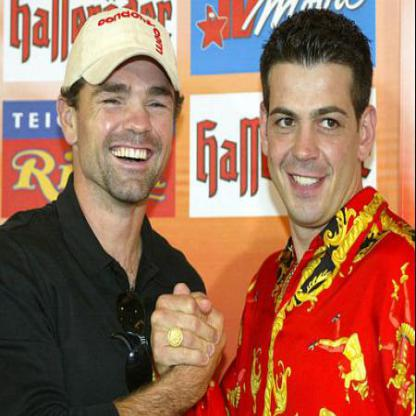face: (77, 12, 187, 206), (267, 19, 364, 228)
